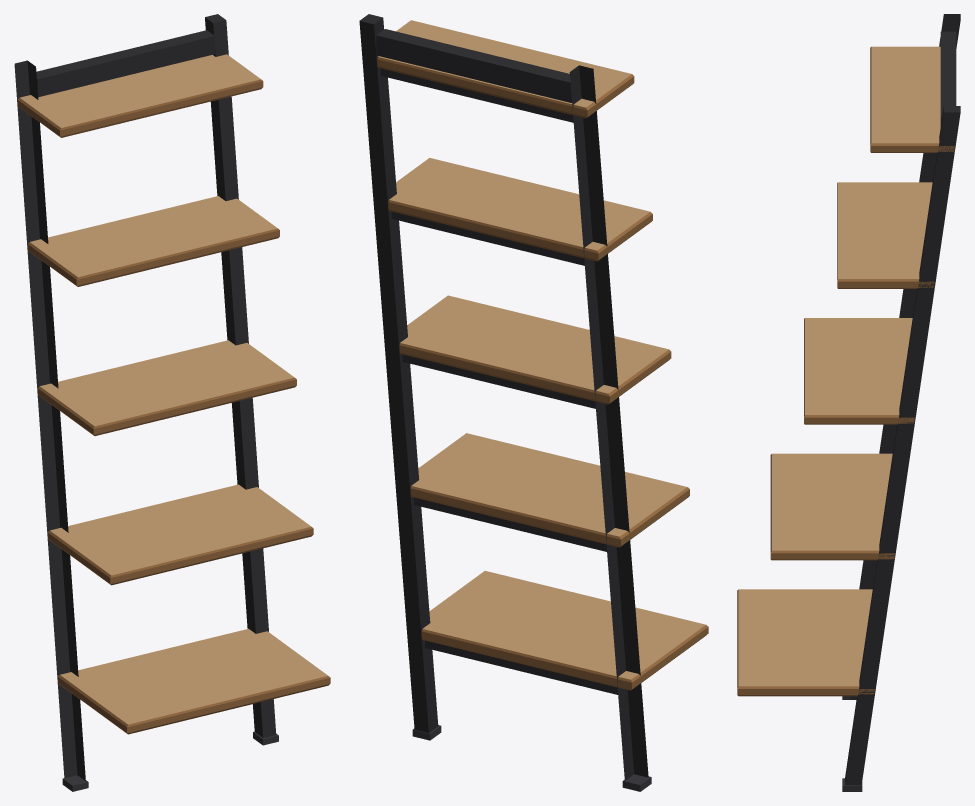
The model's file is FN_Shelf_Ladder.obj.
The picture shows the model from 3 angles, left to right: view 1: azimuth 30°, elevation 25°; view 2: azimuth 150°, elevation 25°; view 3: azimuth 270°, elevation 25°; orthographic projection. The views are drawn at different scales.
Parts seen in each view (by area): view 1: FN_Shelf_Ladder; view 2: FN_Shelf_Ladder; view 3: FN_Shelf_Ladder.
Boxes of the visible parts, <box> form: FN_Shelf_Ladder: <box>14,14,330,791</box>; FN_Shelf_Ladder: <box>359,14,708,791</box>; FN_Shelf_Ladder: <box>737,14,960,791</box>.
Size of the model in its own units: 0.568 by 1.8 by 0.5367.
1 material, 1 textured.
